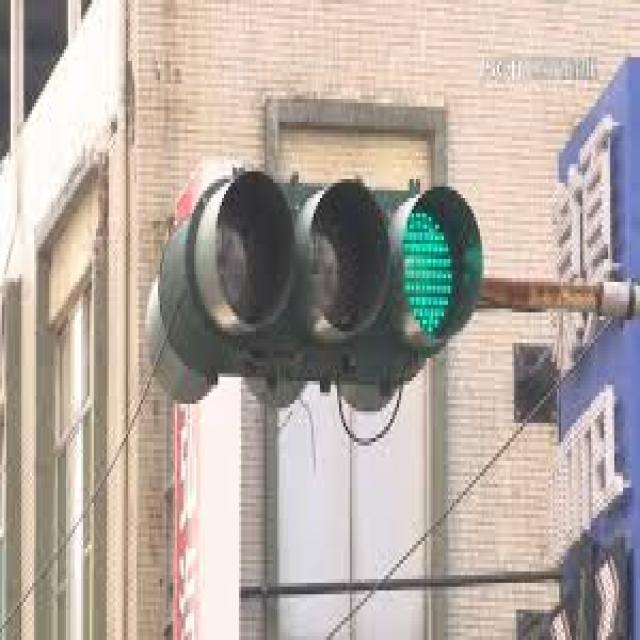green: (405, 201, 466, 343)
